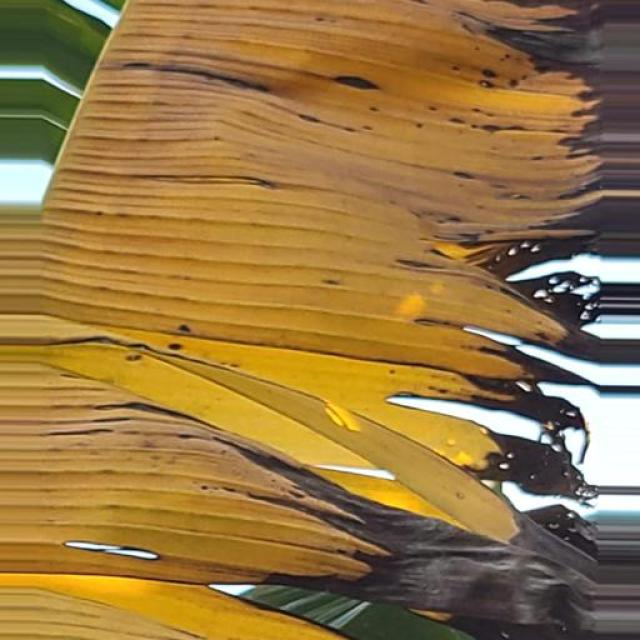Cordana: (0, 1, 604, 640)
